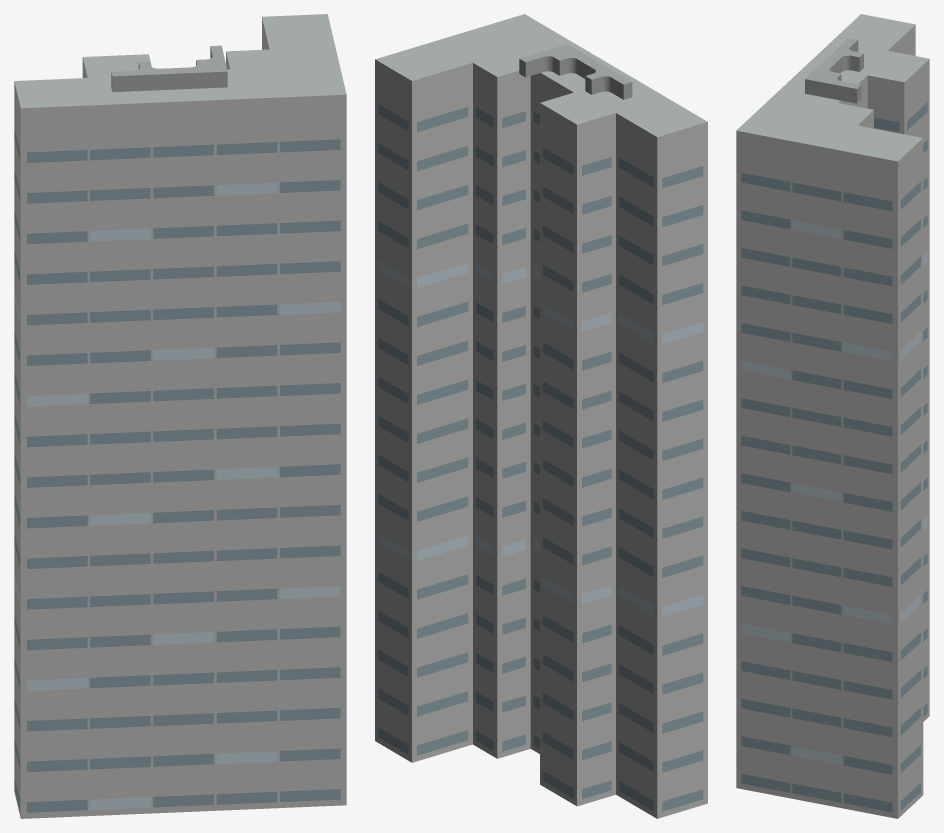
The model's file is fallback-seocho-grand-xi-101.glb.
The picture shows the model from 3 angles, left to right: view 1: azimuth 30°, elevation 25°; view 2: azimuth 150°, elevation 25°; view 3: azimuth 270°, elevation 25°; orthographic projection. The views are drawn at different scales.
Visible parts, largest first — view 1: fallback-seocho-grand-xi-101; view 2: fallback-seocho-grand-xi-101; view 3: fallback-seocho-grand-xi-101.
Part boxes in pixels (box(x1,y1,x2,y2)): fallback-seocho-grand-xi-101: box(14, 14, 346, 818); fallback-seocho-grand-xi-101: box(375, 14, 707, 818); fallback-seocho-grand-xi-101: box(736, 14, 929, 818).
Size of the model in its own units: 51.8 by 110 by 28.71.
